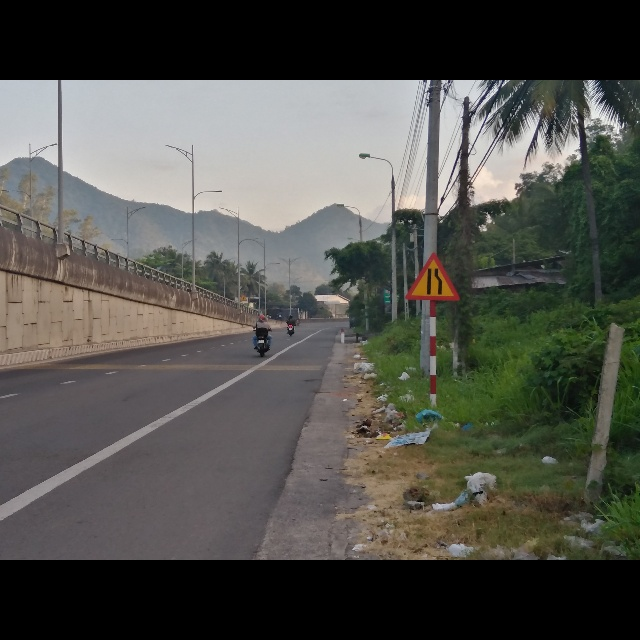Đường bị hẹp bên phải: (406, 253, 460, 300)
